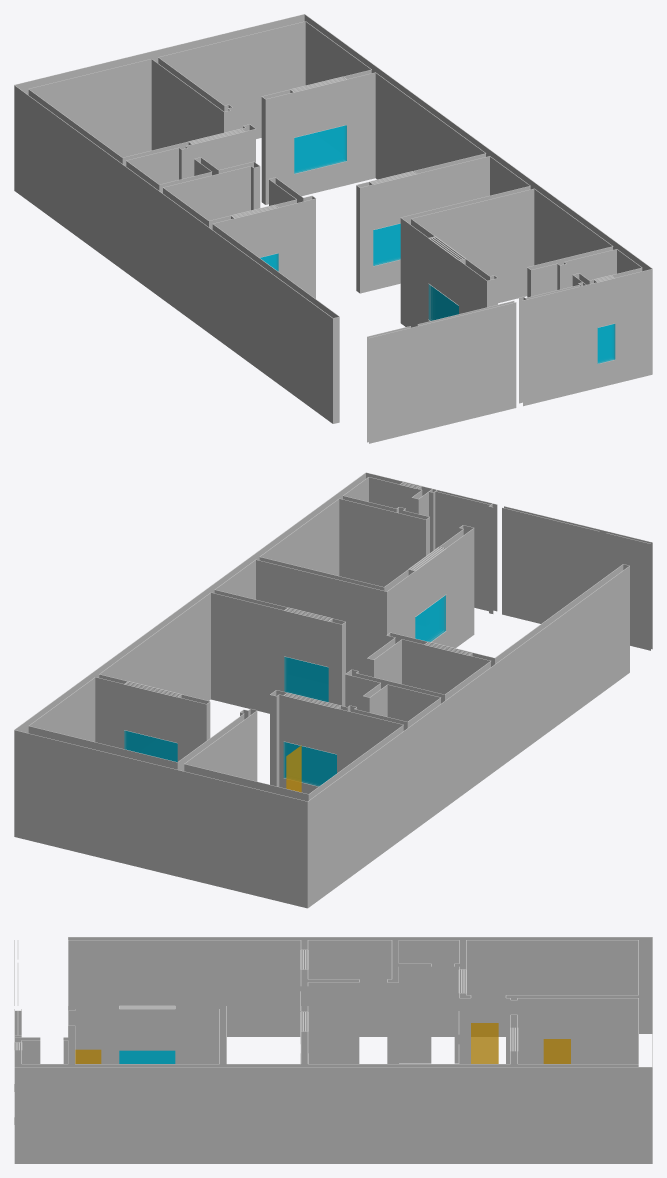
Rendered from e4c2b16d-3b89-4e7a-9e22-04981e487d69_no_roof.glb.
3 views of the same model, one above another, from view 1: azimuth 30°, elevation 25°; view 2: azimuth 150°, elevation 25°; view 3: azimuth 270°, elevation 25° (orthographic). The views are drawn at different scales.
Parts seen in each view (by area): view 1: walls, windows; view 2: walls, windows, doors; view 3: walls, doors, windows.
Part boxes in pixels (x1,y1,x2,y2): walls: (14, 14, 652, 443); windows: (260, 125, 615, 363); walls: (14, 472, 652, 908); windows: (124, 595, 445, 786); doors: (286, 745, 301, 792); walls: (14, 937, 652, 1163); doors: (75, 1023, 570, 1063); windows: (119, 1050, 175, 1063).
Bounding box in the file's own units: 10.08 × 3.5 × 20.91.
